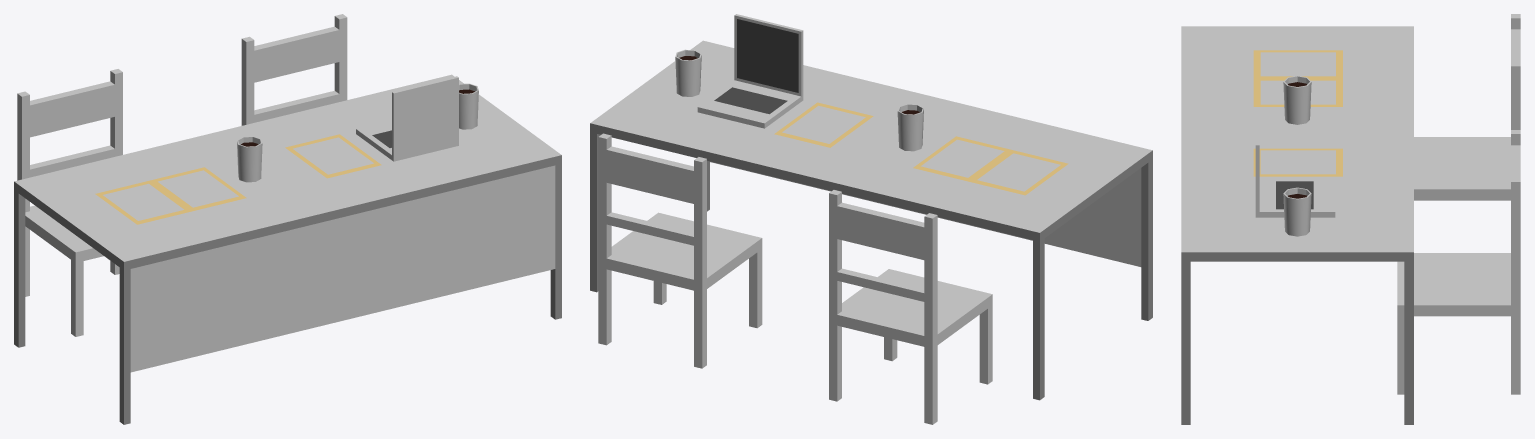
The model's file is pj_01_office_desk.FBX.
3 renders of one model, left to right at view 1: azimuth 30°, elevation 25°; view 2: azimuth 150°, elevation 25°; view 3: azimuth 270°, elevation 25°, orthographic. The views are drawn at different scales.
Parts seen in each view (by area): view 1: Office_Desk; view 2: Office_Desk; view 3: Office_Desk.
Boxes of the visible parts, x1,y1,x2,y2 form: Office_Desk: [14, 14, 561, 424]; Office_Desk: [590, 14, 1152, 424]; Office_Desk: [1181, 14, 1520, 424].
Bounding box in the file's own units: 10.69 × 5.4 × 6.79.
